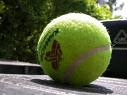tennis ball: (37, 12, 113, 87)
